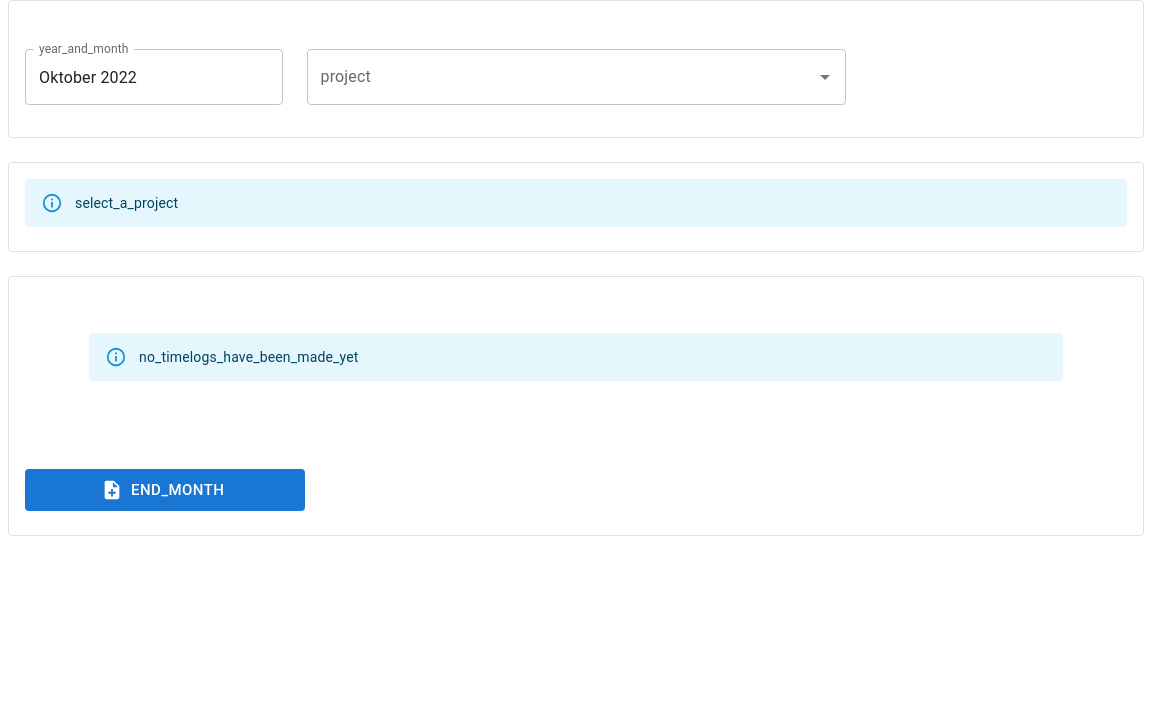
Test: autocomplete list gets populated
In the dropdown labelled "project": (561, 77) [316,58,806,96], type "t"
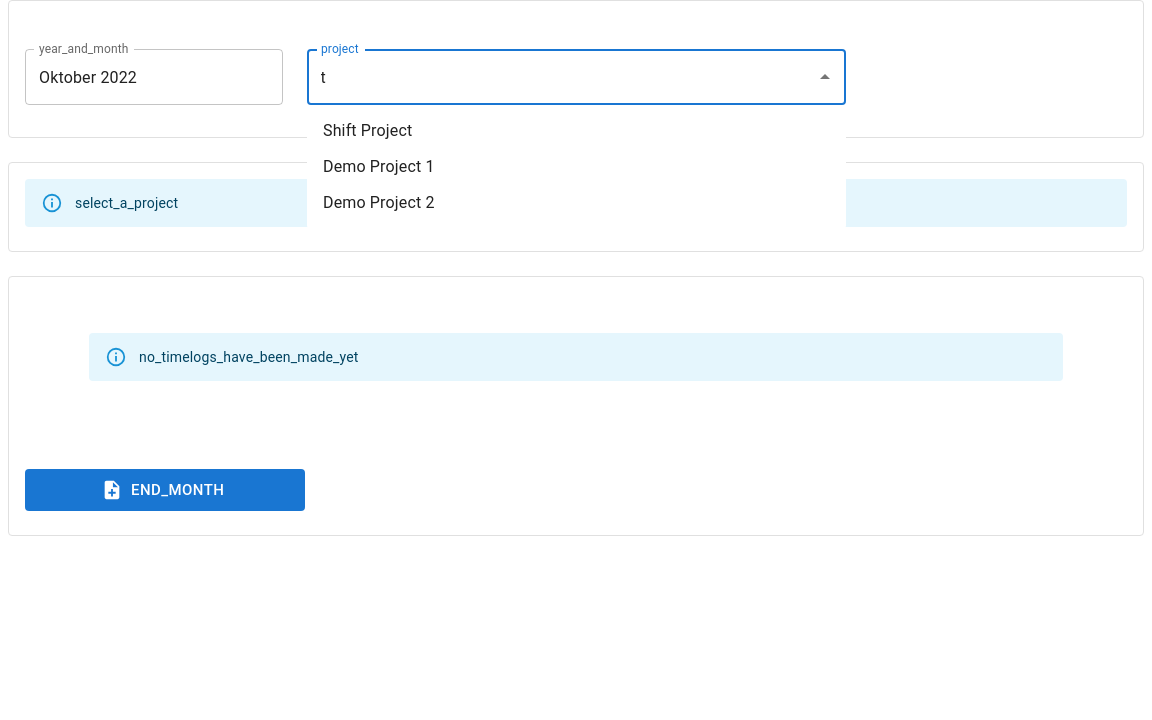
Expected: the list is shown, [323,121,435,212]
